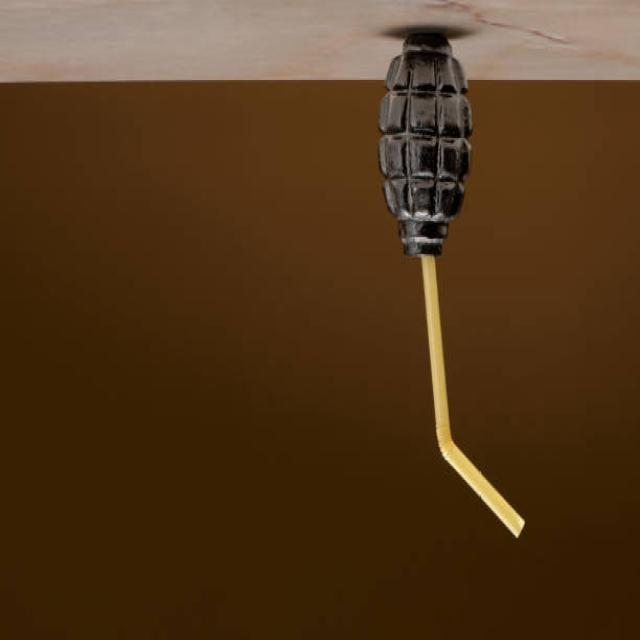grenade: (374, 28, 480, 262)
